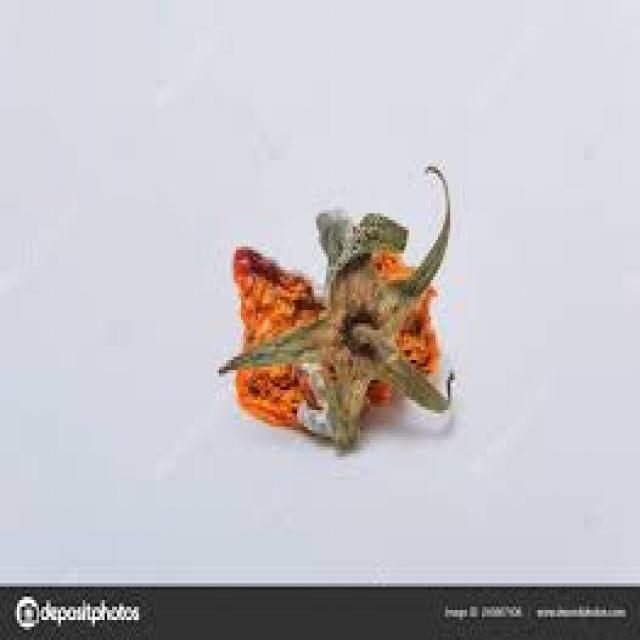organic waste: (214, 160, 453, 447), (226, 243, 341, 437)
